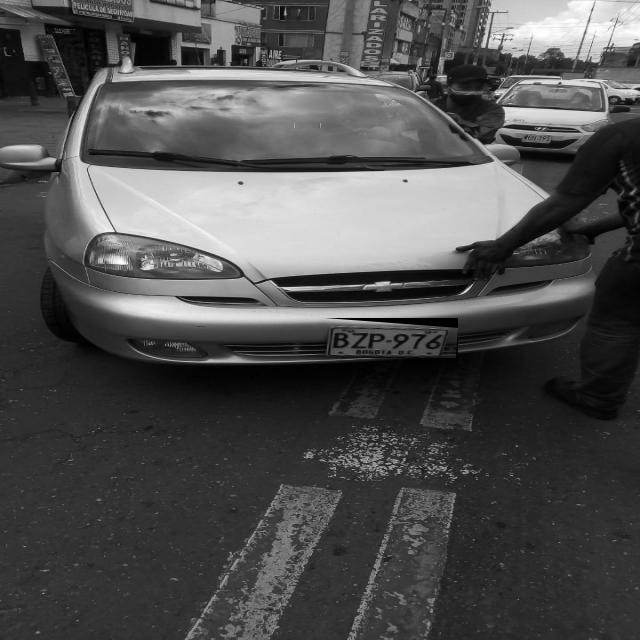plate: (324, 318, 458, 358)
